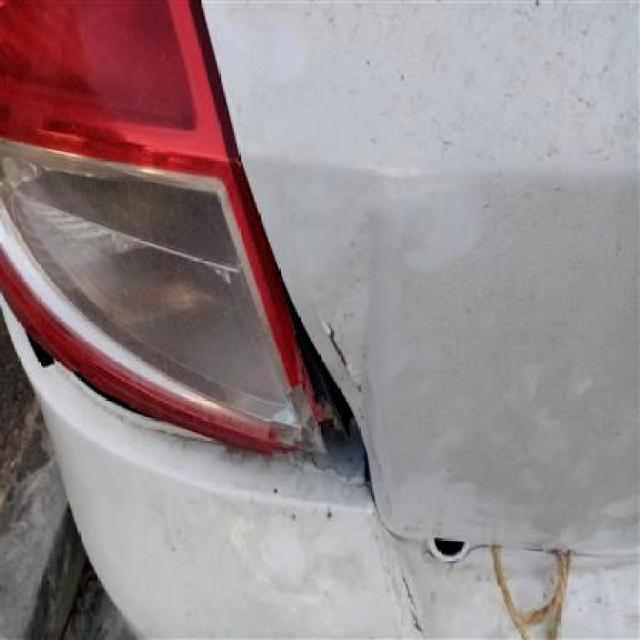car damage: (317, 325, 359, 396), (401, 579, 420, 635)
